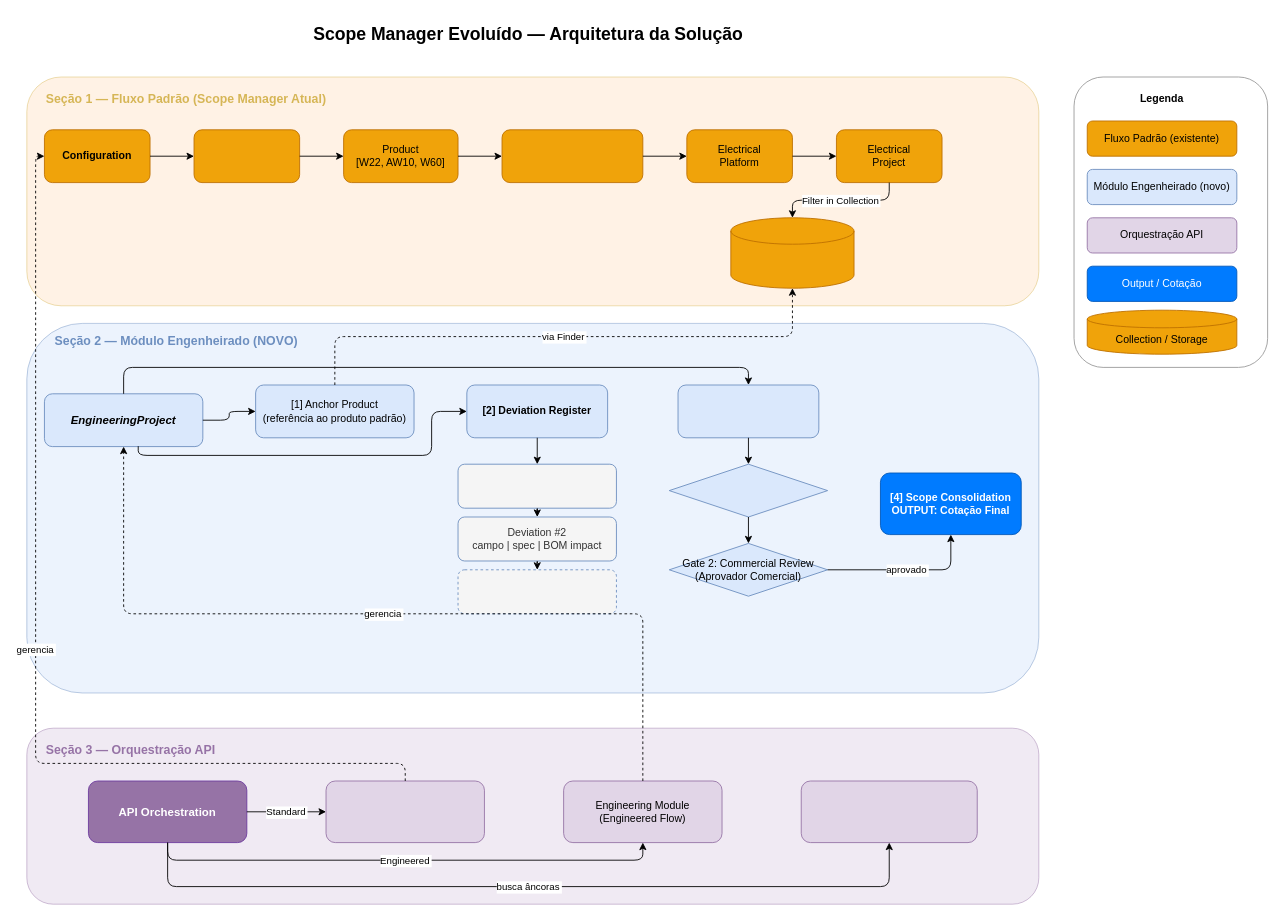
The diagram is 1283 pixels wide and 920 high, and some of its shapes have lost their labels. Here are the shapes that lost their labels. From the top down, the centre of each, then its label:
the point at 246,156: Platform [WFF2, WFF3]
the point at 572,156: Commercial [W22 Brasil, AW10 A, AW10 BR]
the point at 792,252: Collection ElectricalSystem
the point at 748,411: [3] Approval Gates
the point at 536,485: Deviation #1 campo | spec | BOM impact
the point at 748,490: Gate 1: Technical Review (Aprovador Engenharia)
the point at 536,591: Deviation #N campo | spec | BOM impact
the point at 404,811: Scope Manager (Standard Flow)
the point at 888,811: Finder (busca âncoras na Collection)
